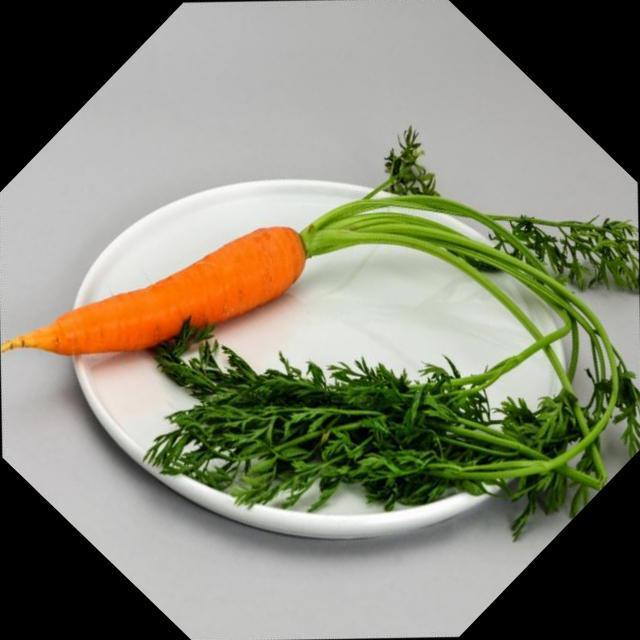Carrot: (1, 228, 306, 355)
